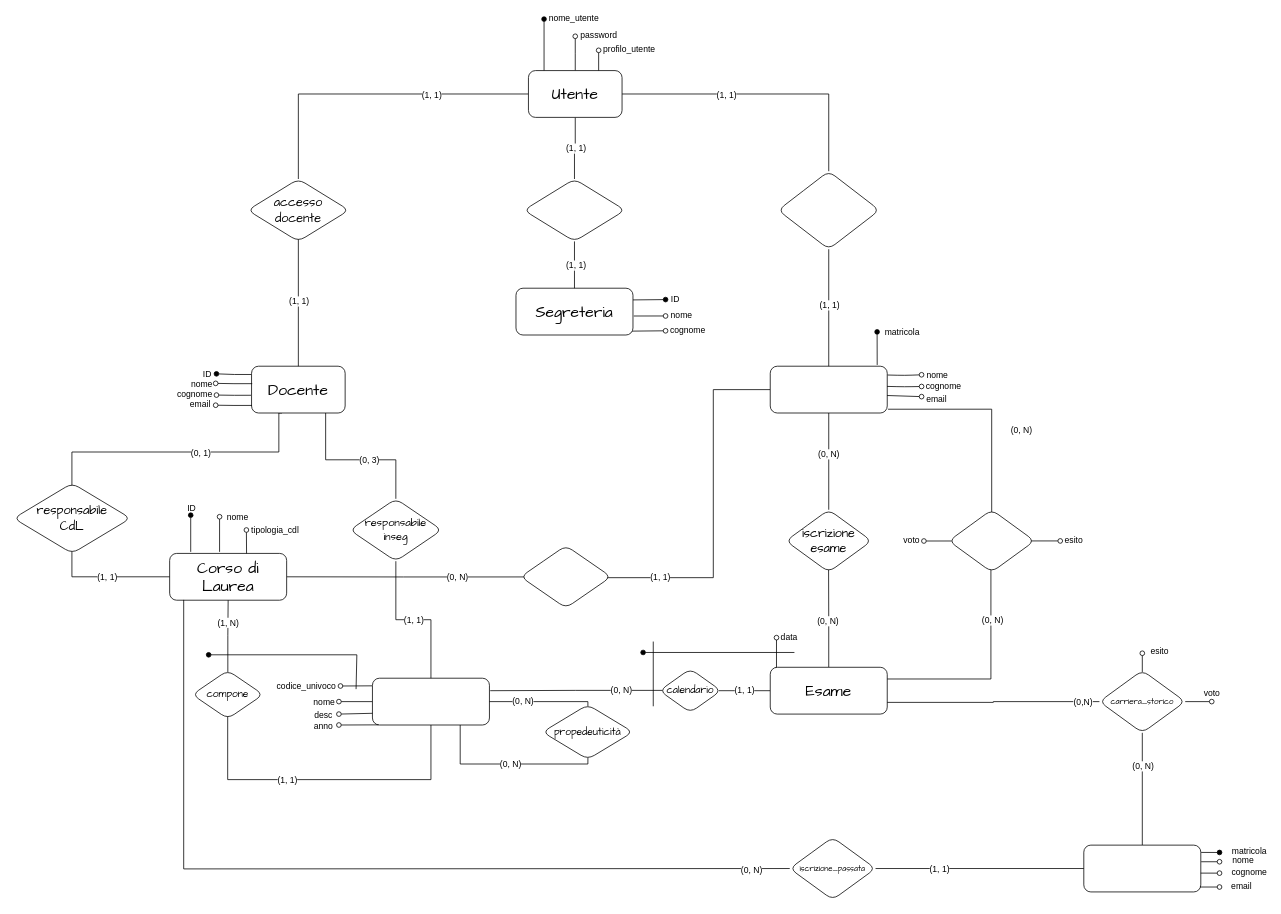
Image size: 1281x914. Some labels were removed from this diagram. Here are the shapes that lost their labels. From the top down, the box of each, then its label:
(523, 178, 625, 241): accesso segreteria
(777, 170, 879, 249): accesso studente
(769, 365, 887, 413): Studente
(948, 509, 1035, 572): carriera
(520, 545, 611, 608): iscrizione CdL
(372, 677, 489, 725): Insegnamento
(1083, 844, 1201, 892): Storico_Studente
